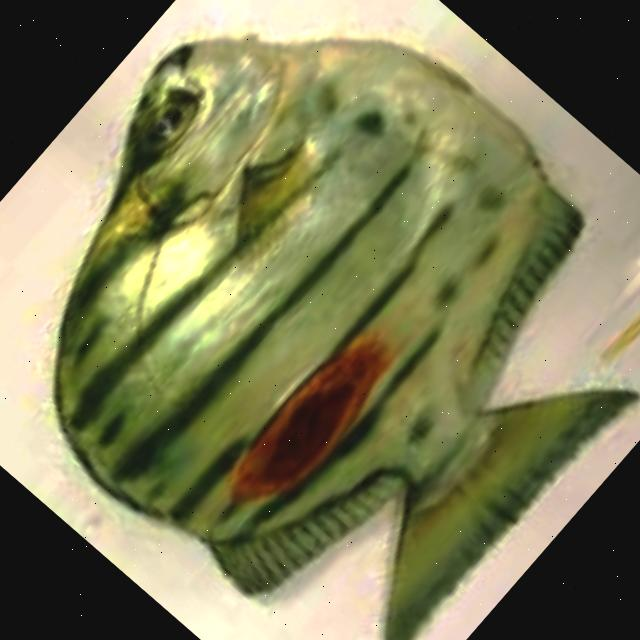Edwardsiella Ictaluri -Bacterial Red Disease-: (57, 46, 633, 640)
